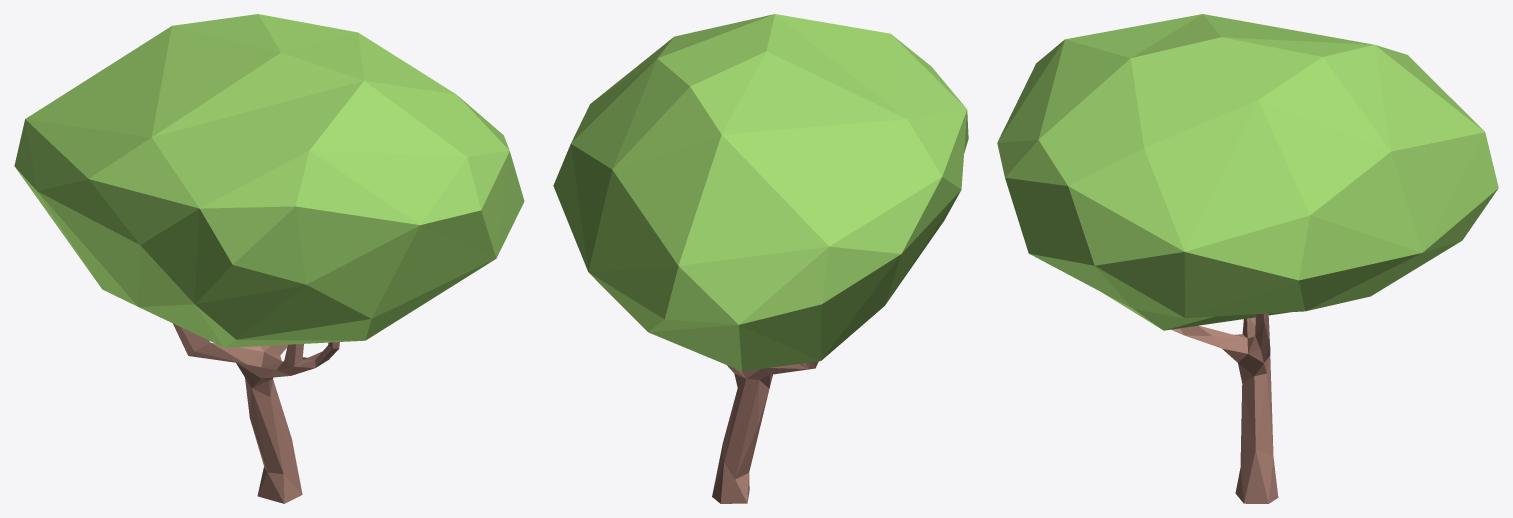
Rendered from arbol4.gltf.
3 views of the same model, side by side, from view 1: azimuth 30°, elevation 25°; view 2: azimuth 150°, elevation 25°; view 3: azimuth 270°, elevation 25° (orthographic). The views are drawn at different scales.
Visible parts, largest first — view 1: trunk; view 2: trunk; view 3: trunk.
Boxes of the visible parts, left/top/right/bottom form: trunk: left=14, top=14, right=524, bottom=503; trunk: left=553, top=14, right=968, bottom=503; trunk: left=997, top=14, right=1498, bottom=503.
Bounding box in the file's own units: 6.34 × 7 × 7.05.
